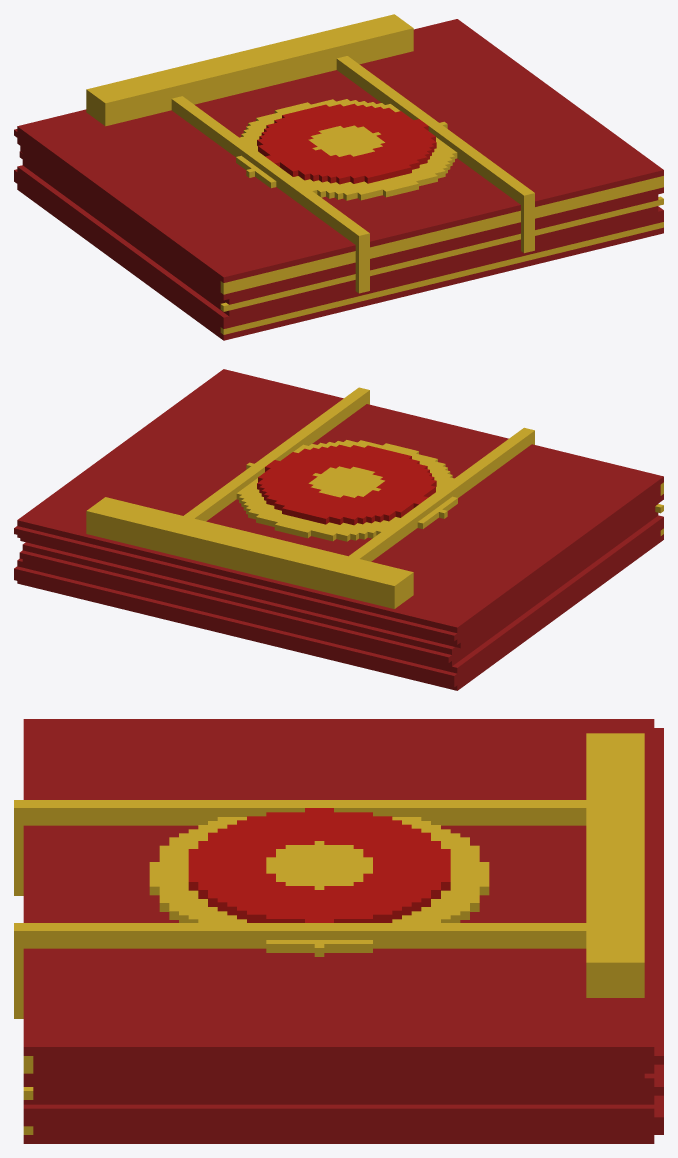
Rendered from mascot_cape.glb.
3 renders of one model, top to bottom at view 1: azimuth 30°, elevation 25°; view 2: azimuth 150°, elevation 25°; view 3: azimuth 270°, elevation 25°, orthographic. The views are drawn at different scales.
Parts seen in each view (by area): view 1: mascot_cape:compound; view 2: mascot_cape:compound; view 3: mascot_cape:compound.
Boxes of the visible parts, x1,y1,x2,y2 form: mascot_cape:compound: (14,14,663,340); mascot_cape:compound: (14,369,663,690); mascot_cape:compound: (14,719,663,1143).
Size of the model in its own units: 0.32 by 0.06 by 0.268.
